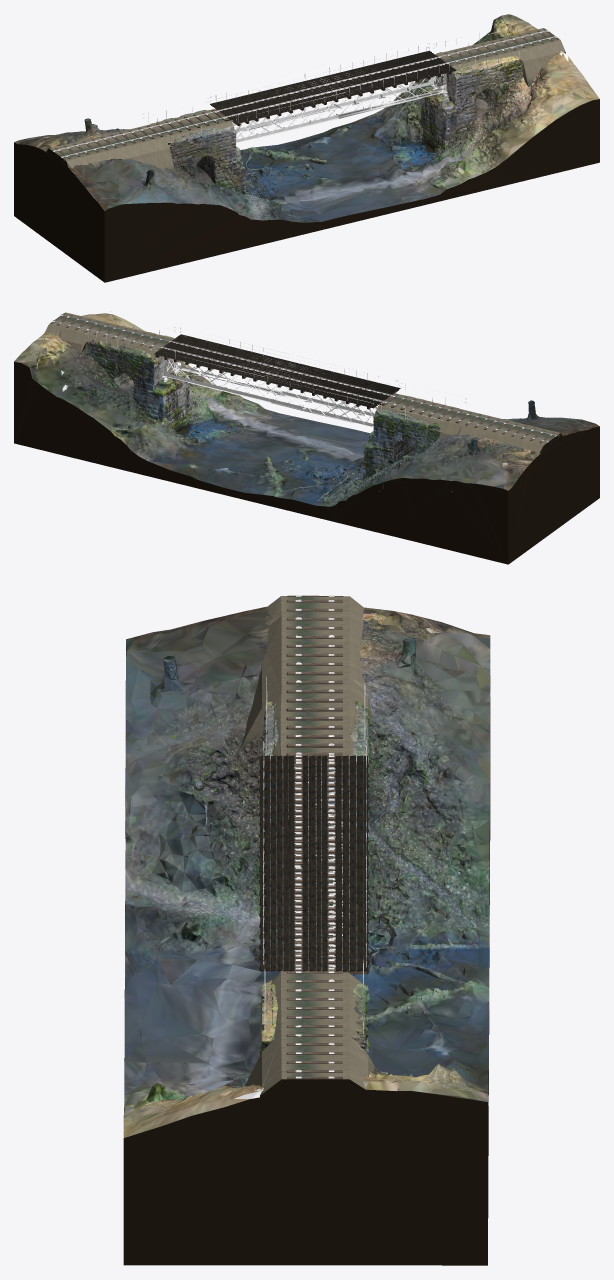
File: tiltas_varene.glb
3 renders of one model, top to bottom at view 1: azimuth 30°, elevation 25°; view 2: azimuth 150°, elevation 25°; view 3: azimuth 270°, elevation 25°, orthographic. The views are drawn at different scales.
Visible parts, largest first — view 1: tiltas_varene; view 2: tiltas_varene; view 3: tiltas_varene.
Part boxes in pixels (x1,y1,x2,y2): tiltas_varene: [14, 14, 599, 282]; tiltas_varene: [14, 311, 599, 564]; tiltas_varene: [123, 595, 490, 1265].
Size of the model in its own units: 54.99 by 10.85 by 17.65.
33 materials, 24 textured.
